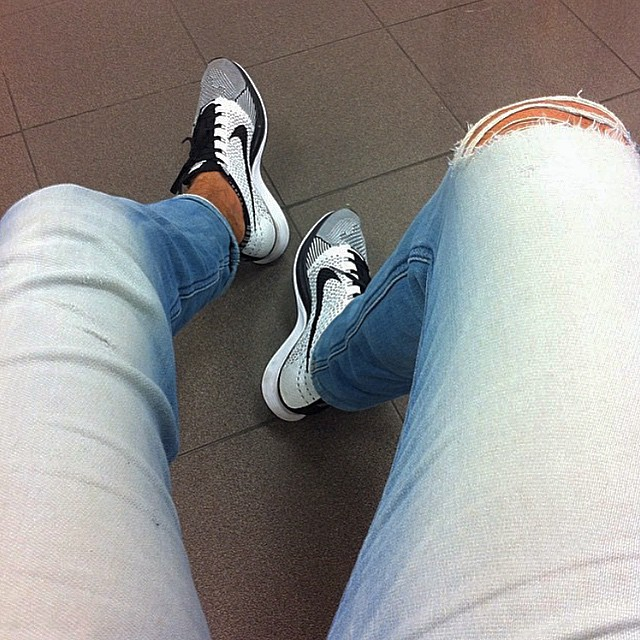sneaker: (243, 200, 398, 435), (158, 47, 298, 281)
